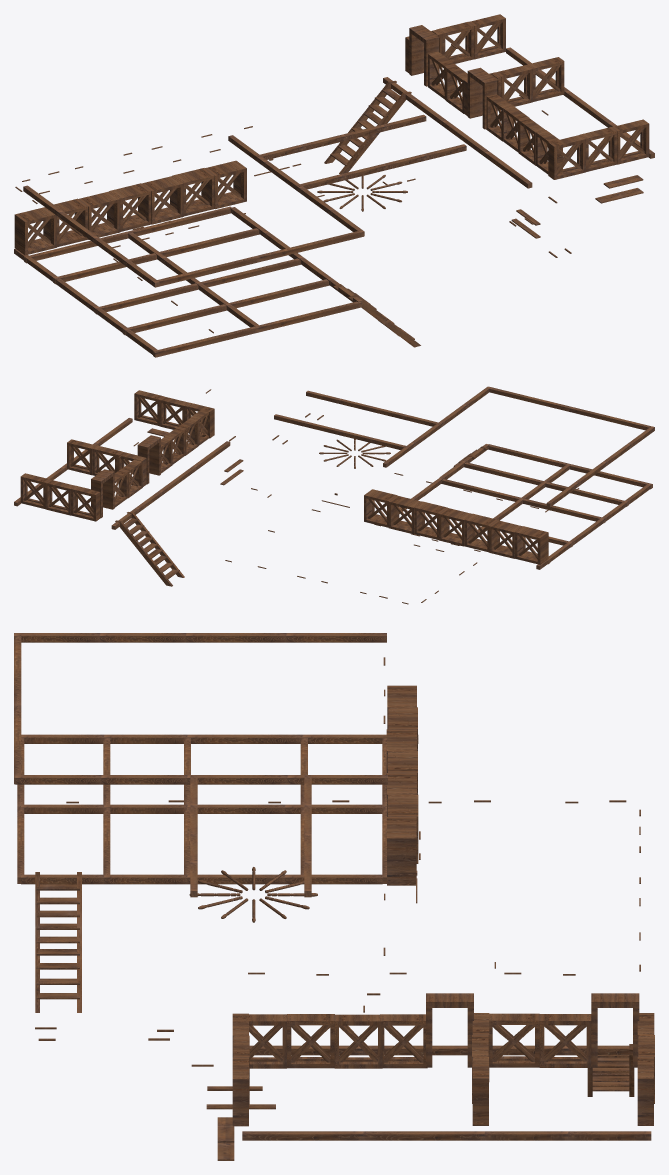
File: tavern_temn_goriz.gltf
3 views of the same model, one above another, from view 1: azimuth 30°, elevation 25°; view 2: azimuth 150°, elevation 25°; view 3: azimuth 270°, elevation 25° (orthographic). The views are drawn at different scales.
Visible parts, largest first — view 1: Box123_Material #170_0.004; view 2: Box123_Material #170_0.004; view 3: Box123_Material #170_0.004.
Boxes of the visible parts, bbox=[...] form: Box123_Material #170_0.004: bbox=[14, 14, 654, 357]; Box123_Material #170_0.004: bbox=[14, 386, 654, 604]; Box123_Material #170_0.004: bbox=[14, 633, 654, 1160].
Size of the model in its own units: 322 by 71.72 by 218.
